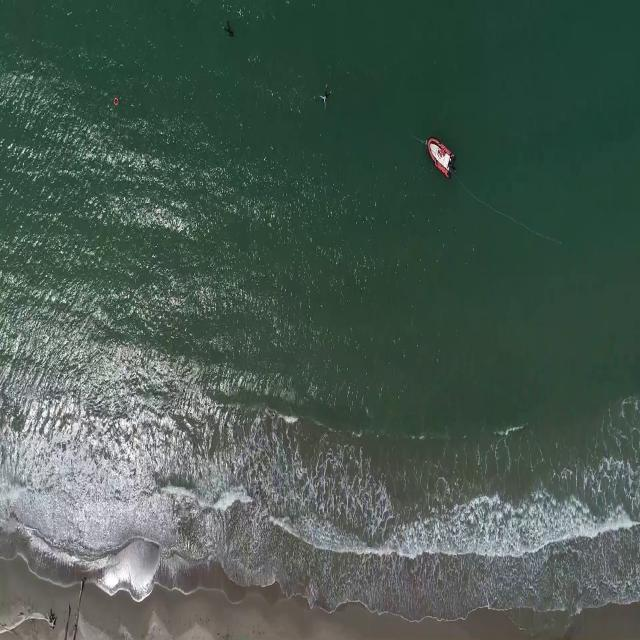boat: (426, 135, 454, 181)
life_buoy: (112, 96, 120, 108)
person: (319, 86, 333, 112), (222, 21, 237, 38)
wood: (0, 608, 61, 632), (64, 576, 85, 640)
